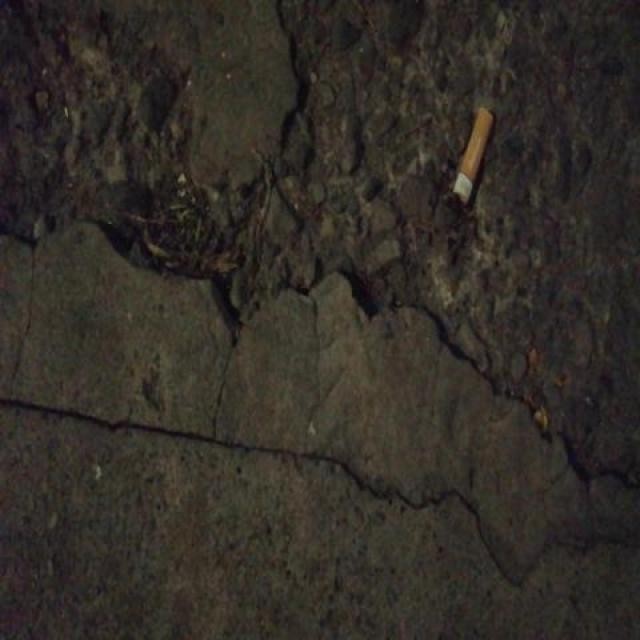non-organic waste: (452, 104, 496, 208)
